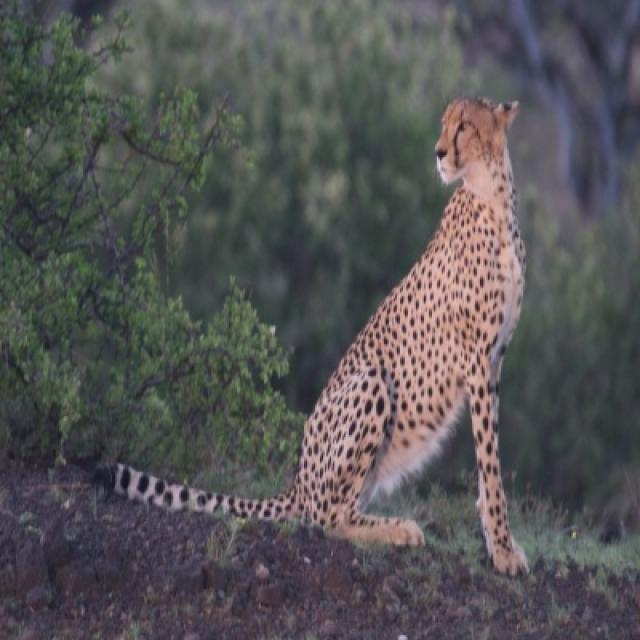Cheetah: (234, 96, 530, 579)
